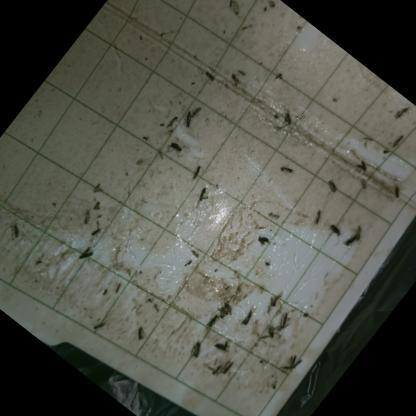prays_oleae: (122, 311, 156, 346), (232, 300, 264, 336), (272, 154, 304, 188), (276, 345, 308, 379), (84, 309, 116, 341), (178, 158, 209, 190), (0, 215, 29, 246), (70, 240, 98, 271), (260, 286, 286, 316), (305, 201, 331, 230), (222, 66, 250, 92), (190, 182, 216, 210), (200, 356, 226, 384), (182, 335, 208, 362), (322, 216, 348, 242), (276, 107, 301, 133), (249, 228, 274, 254), (198, 61, 223, 86), (218, 354, 242, 380), (158, 110, 182, 135), (319, 172, 343, 196), (177, 106, 201, 130), (162, 137, 186, 161), (211, 332, 235, 356), (259, 321, 282, 346), (350, 151, 373, 175), (256, 254, 278, 278), (76, 206, 96, 228), (354, 172, 375, 192), (274, 307, 294, 328), (352, 220, 372, 241), (388, 129, 406, 149), (202, 312, 220, 332), (216, 299, 234, 319), (341, 229, 359, 249), (390, 104, 408, 123), (187, 100, 205, 119), (386, 185, 404, 203)
